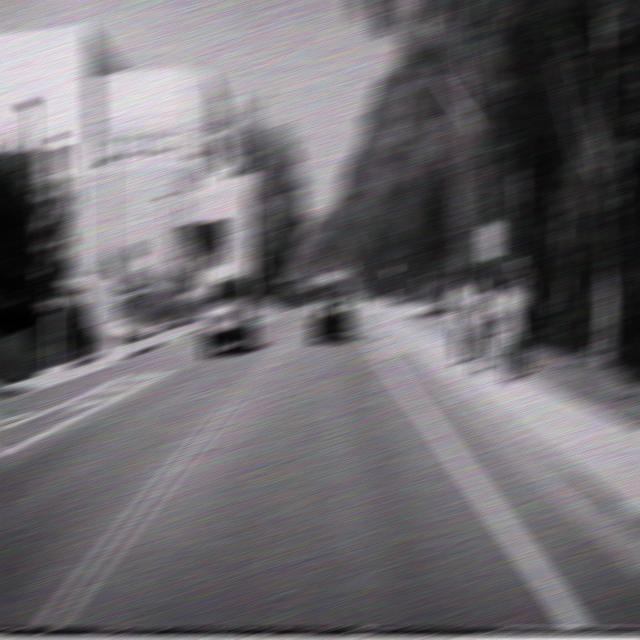speedLimit35: (478, 223, 501, 258)
